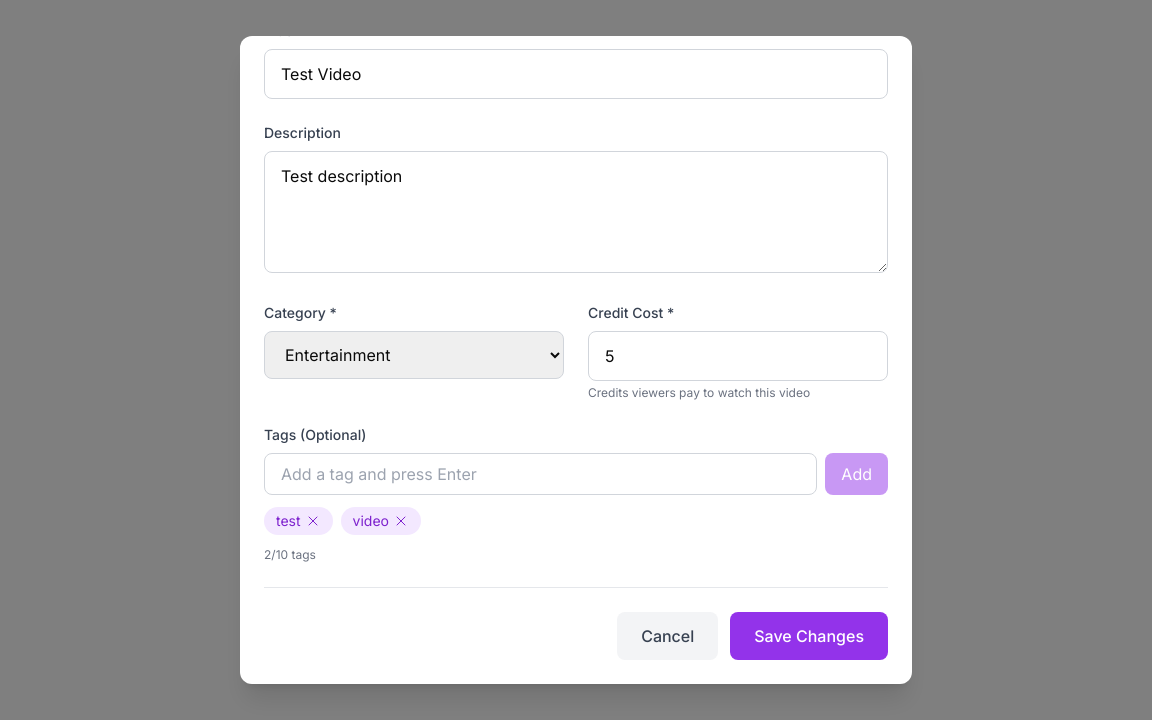
Test: VideoEditModal › shows loading state during submission
The width and height of the screenshot is (1152, 720).
(page scrolled)
Click the button "Save Changes": (809, 636) [730,612,888,660]
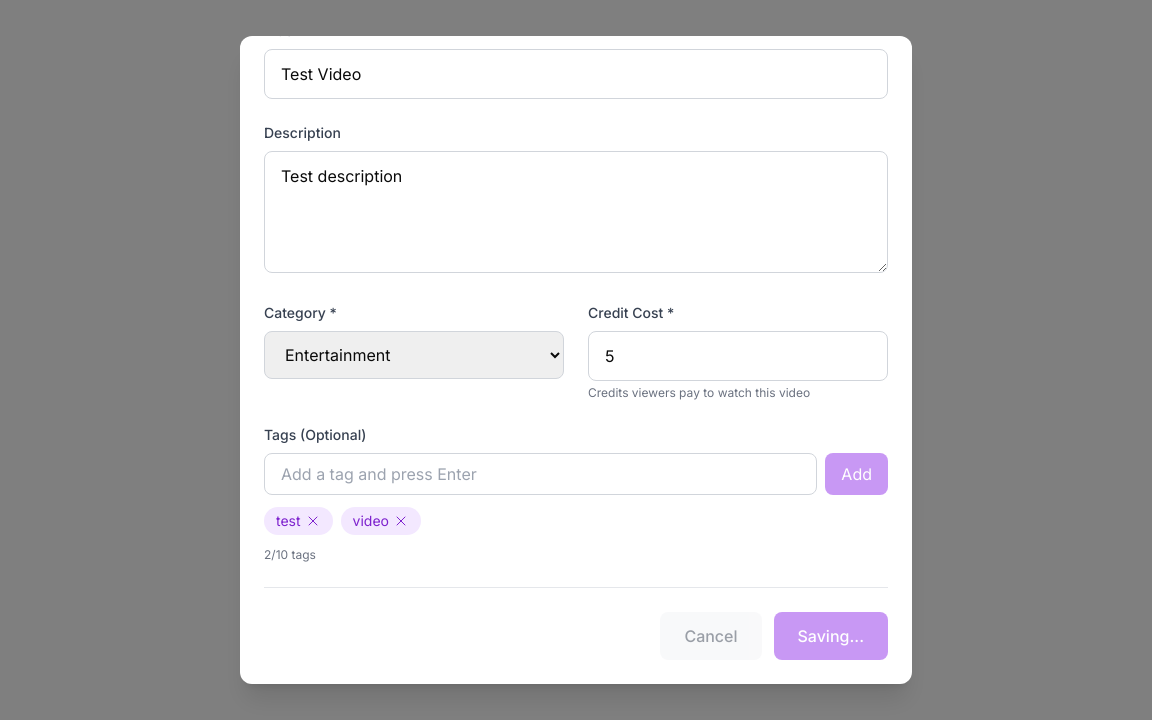
Expected: the button "Saving..." is disabled, [774,612,888,660]
